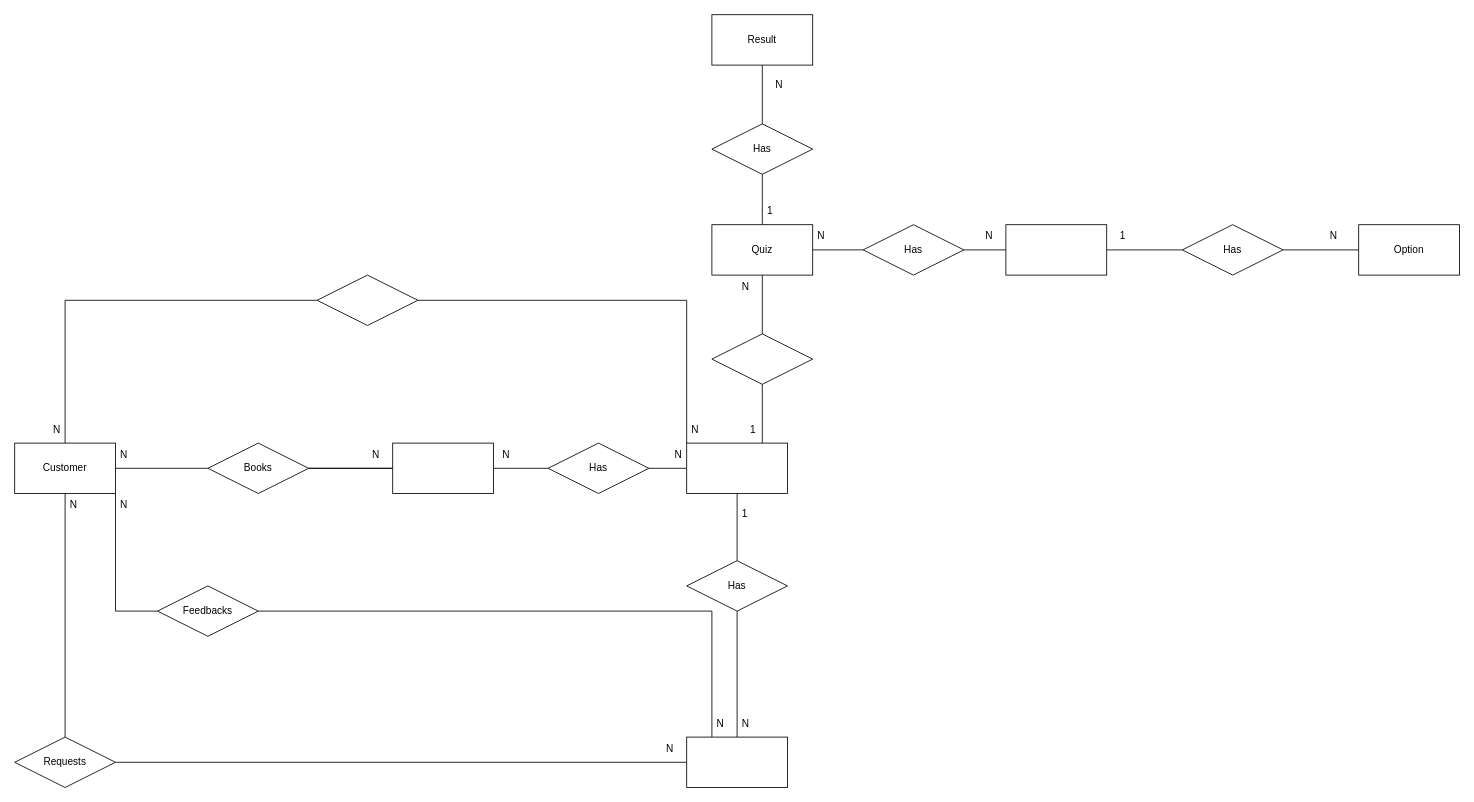
The diagram is 1474 pixels wide and 802 high, and some of its shapes have lost their labels. The shapes that lost their labels are listed below. From the top down, each one's centre as x and y in pixels, then its label:
[1056,249]: Question
[367,300]: Pays
[762,358]: Creates
[443,468]: Session
[737,468]: Therapist
[737,762]: Service
